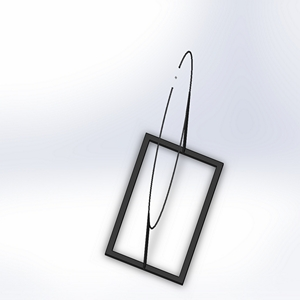circle: (103, 46, 225, 287)
